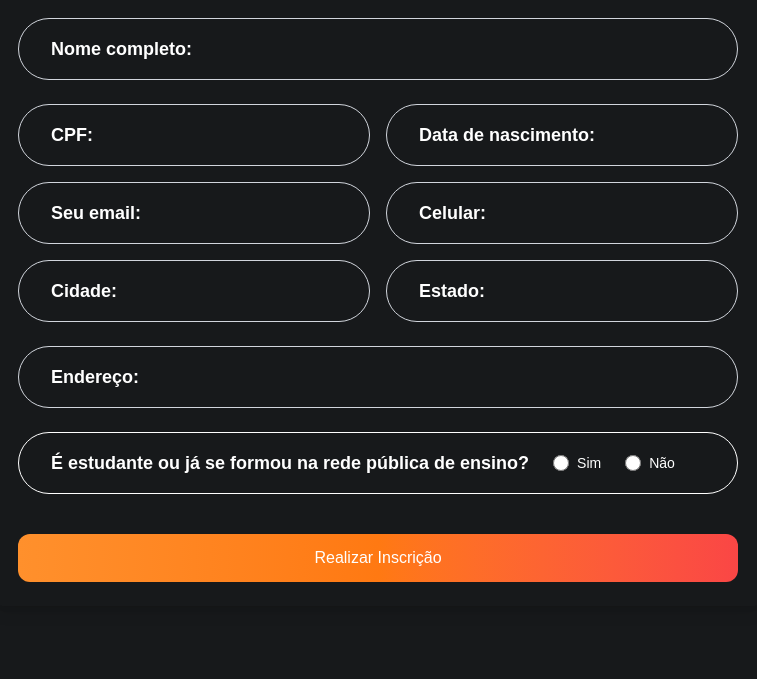
Test: RegistrationForm Component › Form Validation › should validate name format
Type "João123" into the field with placeholder "Nome completo:" at (378, 49), box [18,18,738,80]
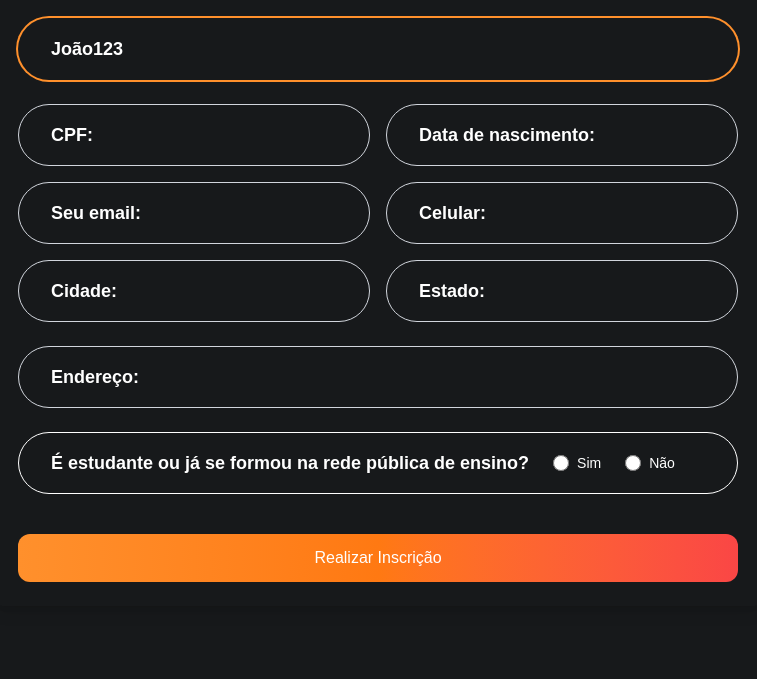
Click the button "Realizar Inscrição" at (378, 558), box [18,534,738,582]
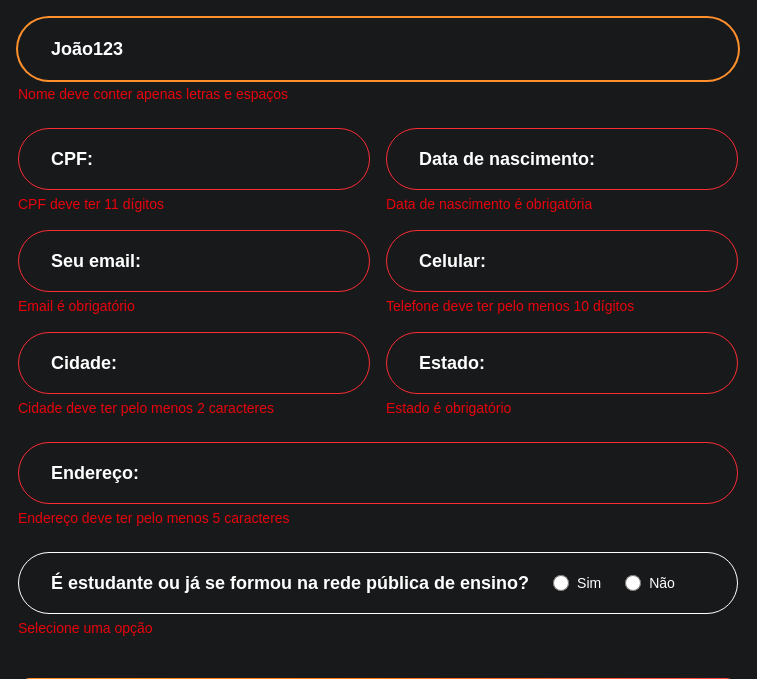
Check: the text "Nome deve conter apenas letras e espaços" is shown, box [18,86,288,102]
